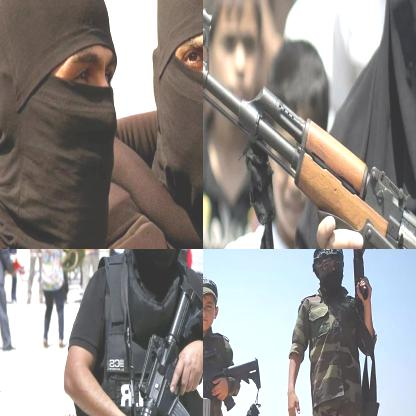rifle: (203, 5, 415, 248), (104, 278, 202, 415), (203, 349, 263, 415), (348, 249, 371, 315)
